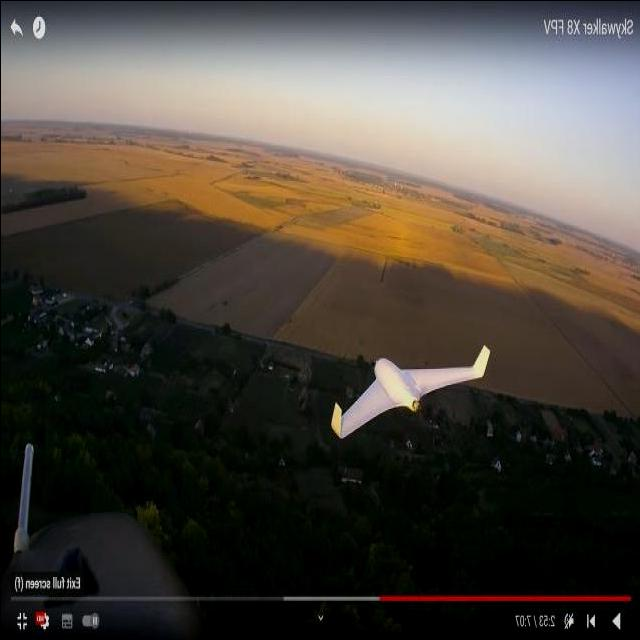plane: (329, 342, 492, 439)
